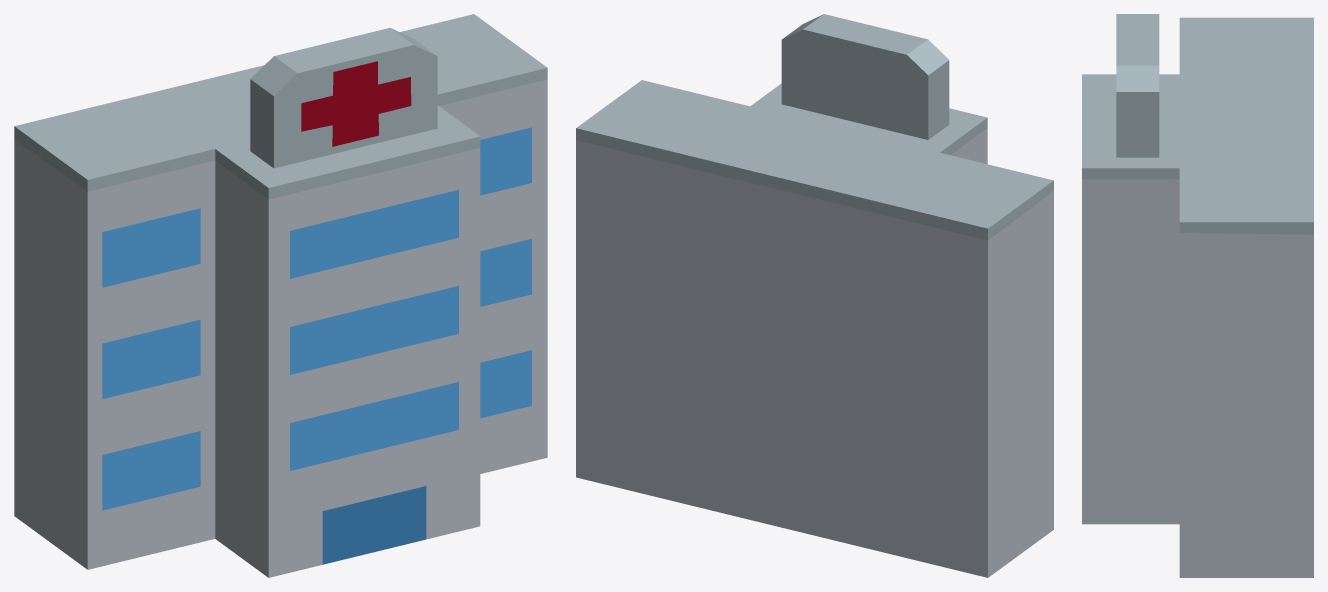
Rendered from health_care_and_social_assistance.gltf.
3 renders of one model, left to right at view 1: azimuth 30°, elevation 25°; view 2: azimuth 150°, elevation 25°; view 3: azimuth 270°, elevation 25°, orthographic. The views are drawn at different scales.
Parts seen in each view (by area): view 1: Health Care and Social Assistance; view 2: Health Care and Social Assistance; view 3: Health Care and Social Assistance.
Boxes of the visible parts, box(x1,y1,x2,y2) form: Health Care and Social Assistance: box(14, 14, 547, 577); Health Care and Social Assistance: box(576, 14, 1053, 577); Health Care and Social Assistance: box(1082, 14, 1313, 577).
Bounding box in the file's own units: 1.18 × 1.17 × 0.5632.
1 material, 1 textured.
